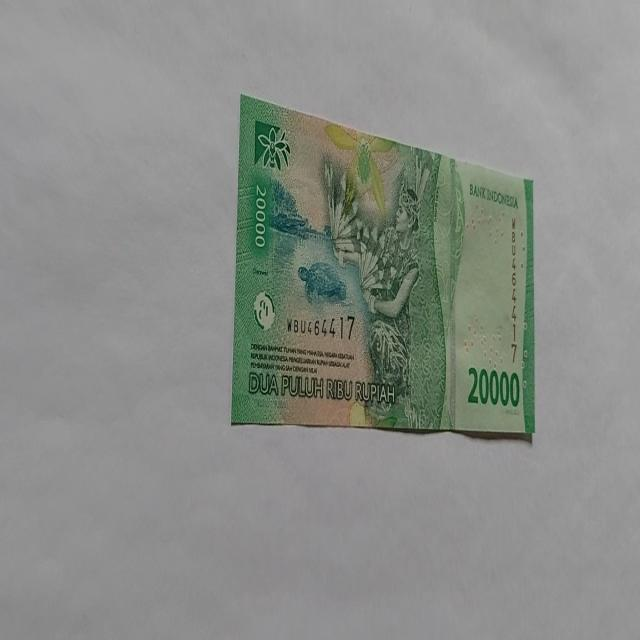dua puluh ribu rupiah: (230, 92, 536, 440)
